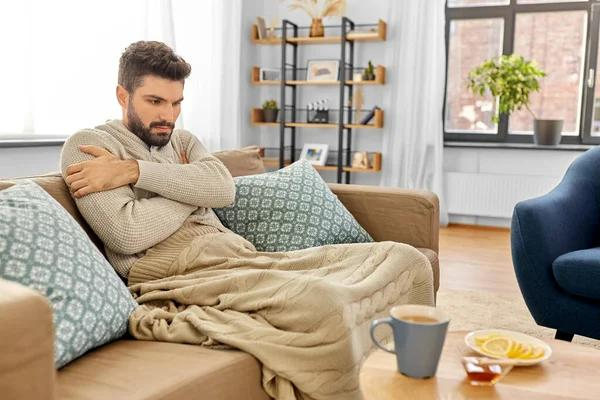blanket: (126, 220, 437, 400)
sweater: (59, 116, 237, 276)
